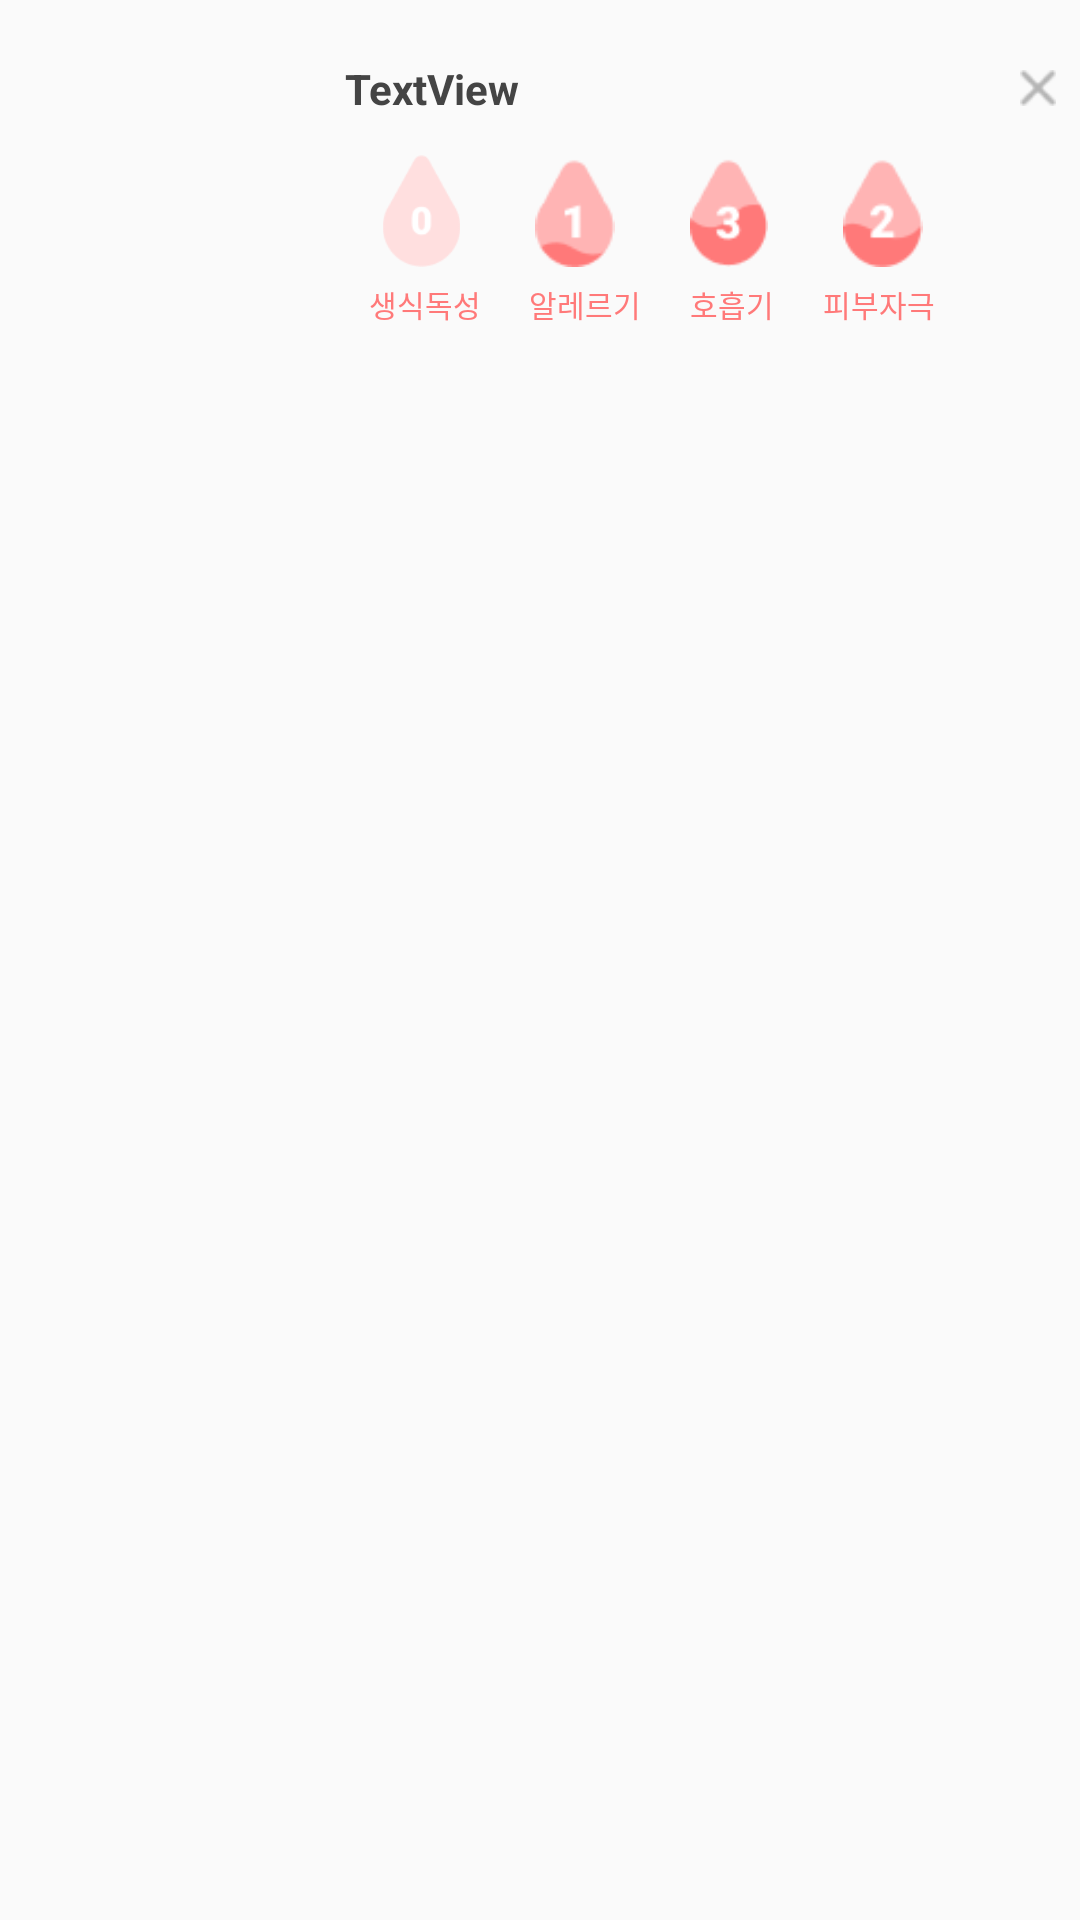

Point at icon controls on the screen. Image size 1080*1920, points as (x,y).
bad water: (421,211), (729,213), (575,214), (883,214)
